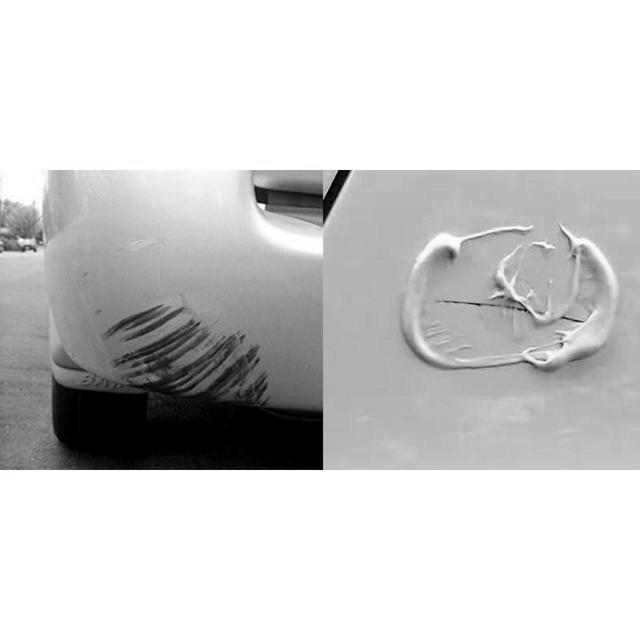rear-bumper-dent: (35, 173, 314, 428)
